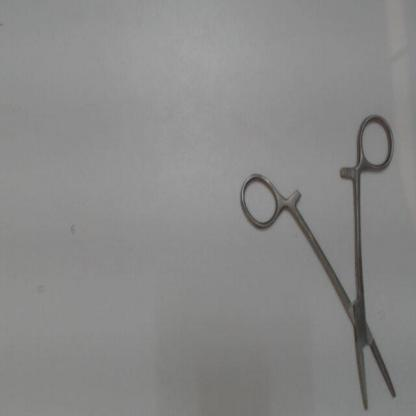Mayo Needle Holder: (236, 108, 402, 414)
